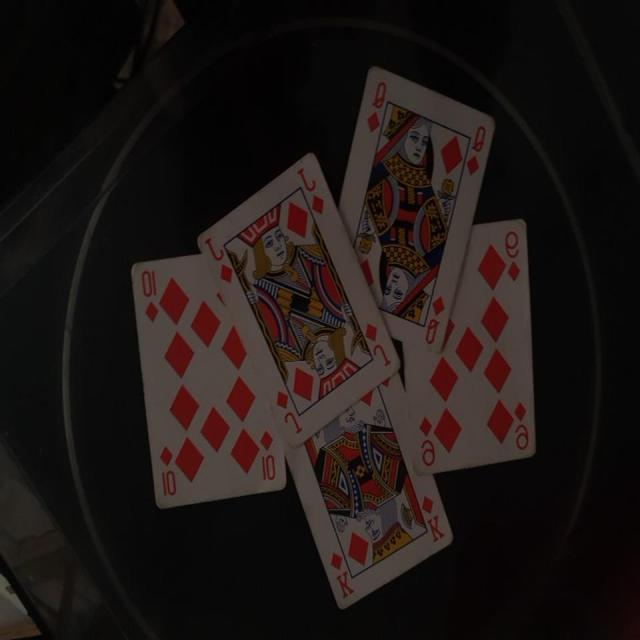10 of diamonds: (130, 257, 288, 512)
9 of diamonds: (402, 218, 538, 478)
jack of diamonds: (196, 150, 402, 449)
king of diamonds: (288, 376, 456, 610)
queen of diamonds: (338, 64, 496, 356)
